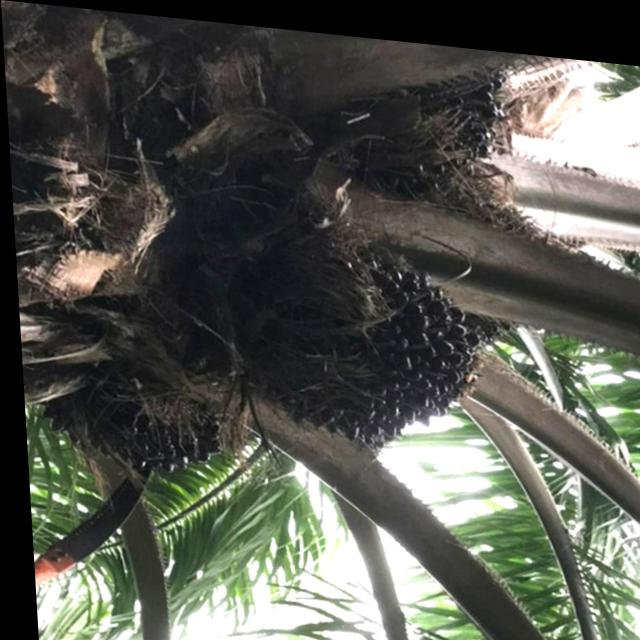ripe: (225, 211, 502, 467)
